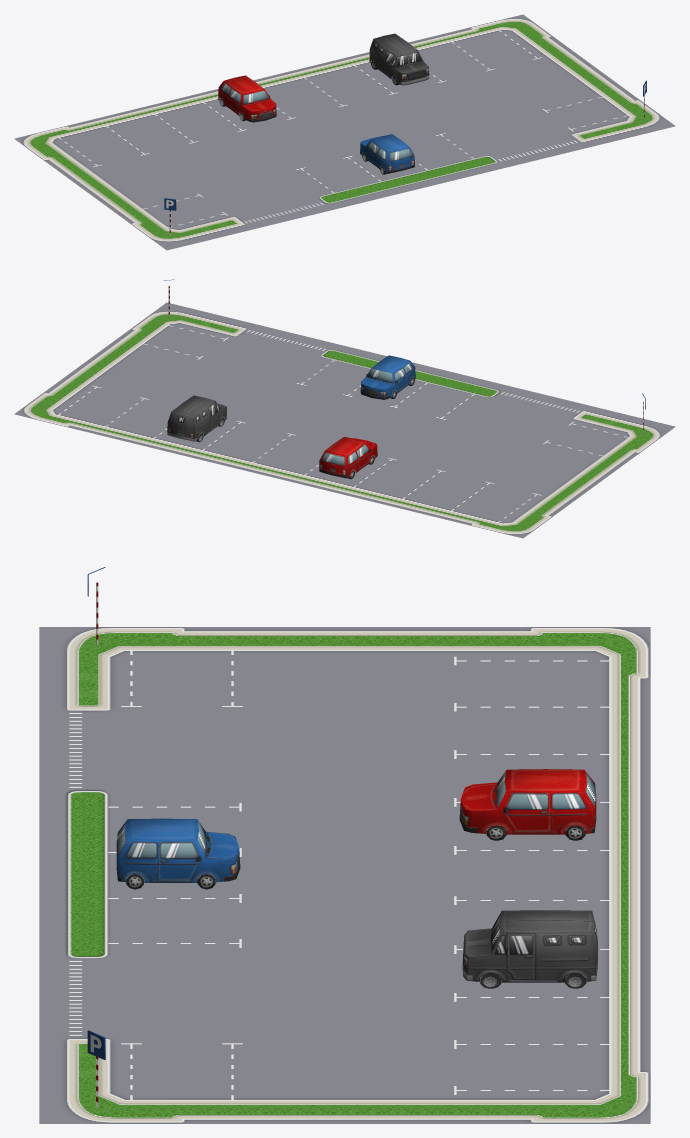
File: bai_do_xe.glb
3 renders of one model, top to bottom at view 1: azimuth 30°, elevation 25°; view 2: azimuth 150°, elevation 25°; view 3: azimuth 270°, elevation 25°, orthographic. The views are drawn at different scales.
Parts seen in each view (by area): view 1: BaiDauXe03; view 2: BaiDauXe03; view 3: BaiDauXe03.
Part boxes in pixels (x1,y1,x2,y2): BaiDauXe03: (14, 14, 675, 250); BaiDauXe03: (14, 279, 675, 538); BaiDauXe03: (39, 567, 650, 1123).
Size of the model in its own units: 34.13 by 2.37 by 17.74.
Materials: 1 (1 with a texture image).
